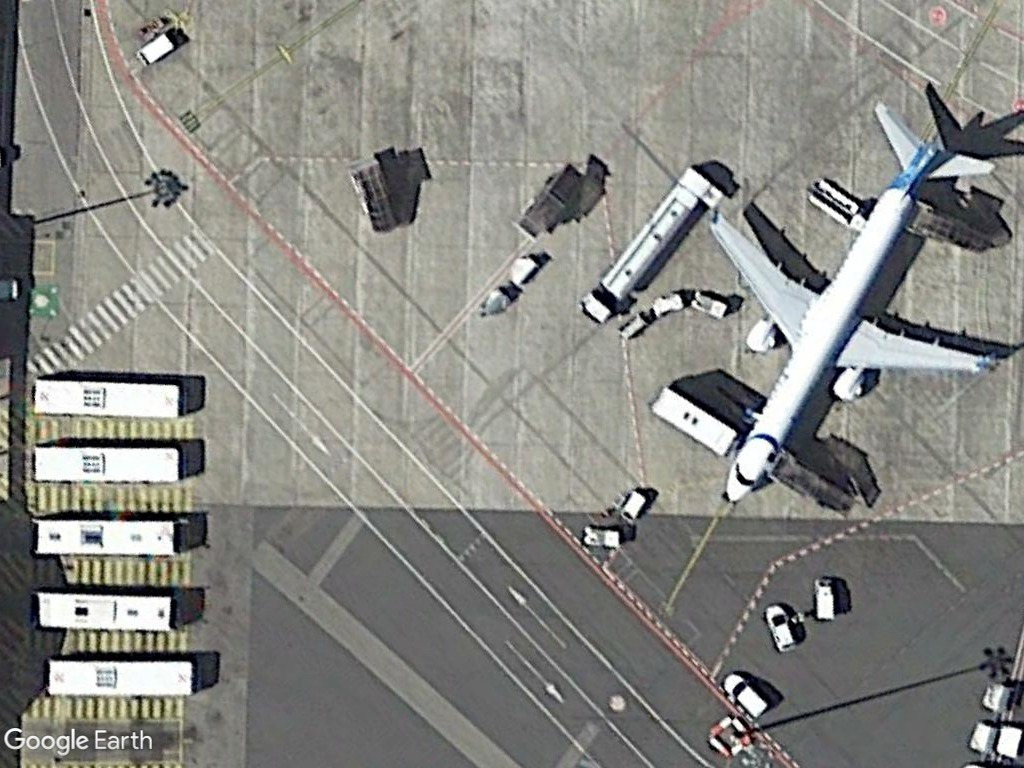airliner: (700, 105, 1015, 514)
bus: (30, 371, 190, 426), (41, 653, 203, 703), (28, 586, 184, 635), (28, 513, 196, 557), (29, 440, 188, 486)
car: (718, 667, 775, 720), (762, 597, 800, 655), (807, 572, 842, 627)
longvehicle: (563, 147, 718, 327)
stairtruck: (801, 173, 870, 231)
